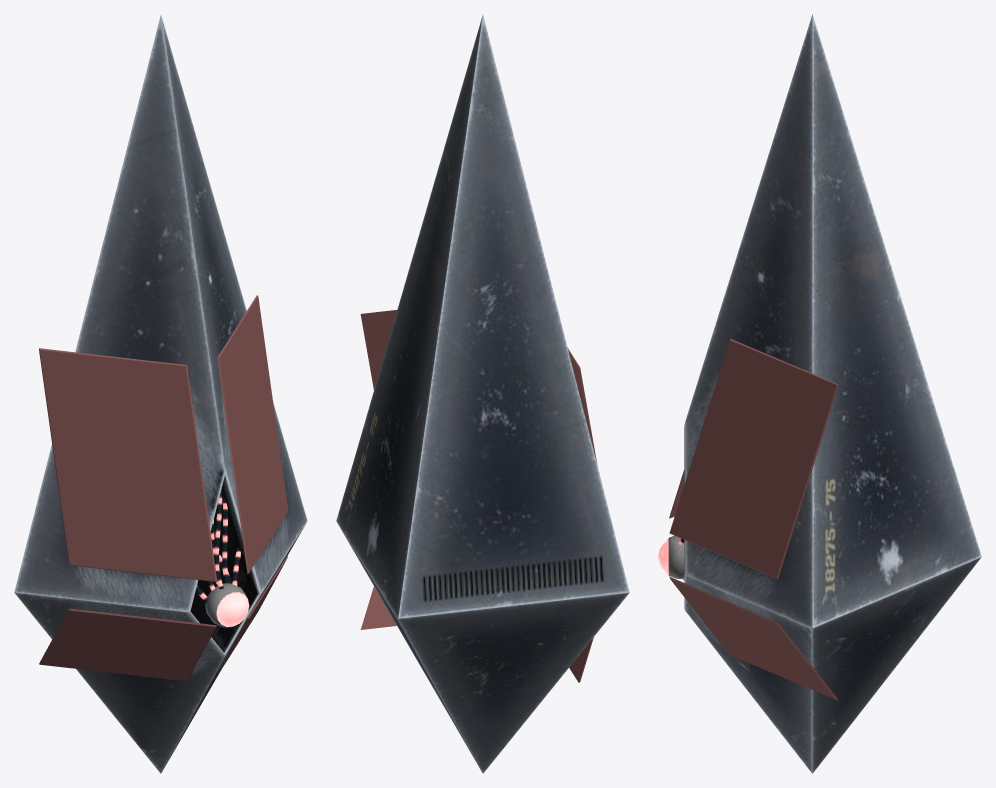
File: balise-extraterrestre.glb
3 views of the same model, side by side, from view 1: azimuth 30°, elevation 25°; view 2: azimuth 150°, elevation 25°; view 3: azimuth 270°, elevation 25° (orthographic).
Parts seen in each view (by area): view 1: Cube, Cube.003, Cube.002, Cube.006, Sphere, Cylinder.002, Cube.001; view 2: Cube, Cube.002, Cube.001, Cube.003; view 3: Cube, Cube.002, Cube.001, Sphere.
Boxes of the visible parts, box(x1,y1,x2,y2) form: Cube: box(14, 15, 307, 773); Cube.003: box(39, 348, 217, 581); Cube.002: box(217, 295, 288, 574); Cube.006: box(39, 608, 217, 681); Sphere: box(205, 583, 249, 627); Cylinder.002: box(195, 488, 241, 602); Cube.001: box(217, 555, 287, 673); Cube: box(336, 15, 629, 773); Cube.002: box(360, 310, 397, 389); Cube.001: box(360, 586, 396, 629); Cube.003: box(567, 348, 597, 463); Cube: box(684, 14, 981, 773); Cube.002: box(669, 338, 838, 578); Cube.001: box(669, 576, 838, 700); Sphere: box(658, 535, 684, 578).
Size of the model in its own units: 283 by 700 by 270.
Materials: 4 (4 with a texture image).
